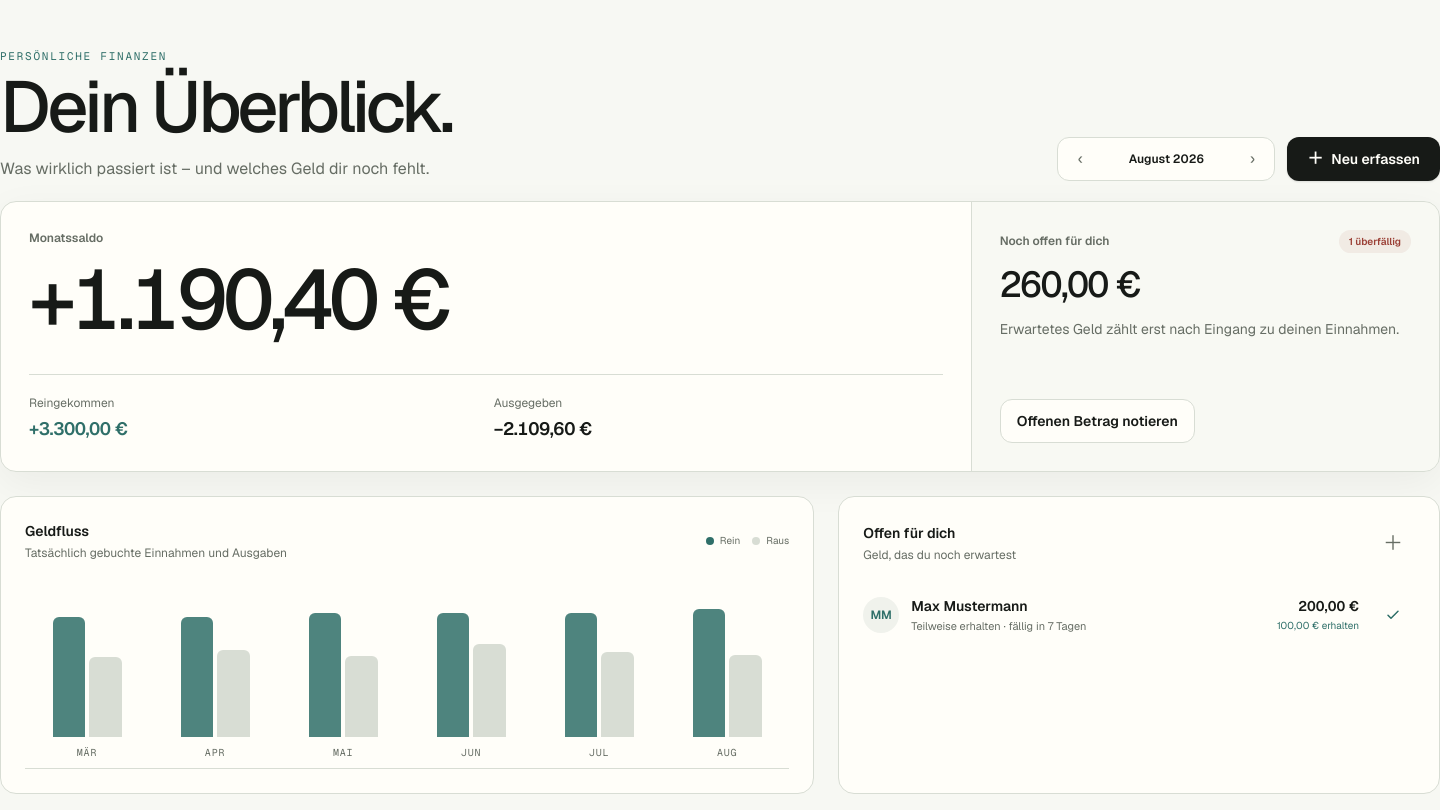
Test: PersonalDashboard › records a received payment through the focused review dialog
The image size is (1440, 810).
Click the button named "Zahlung von Max Mustermann eintragen". click: (1393, 615)
box: [1371, 593, 1415, 637]
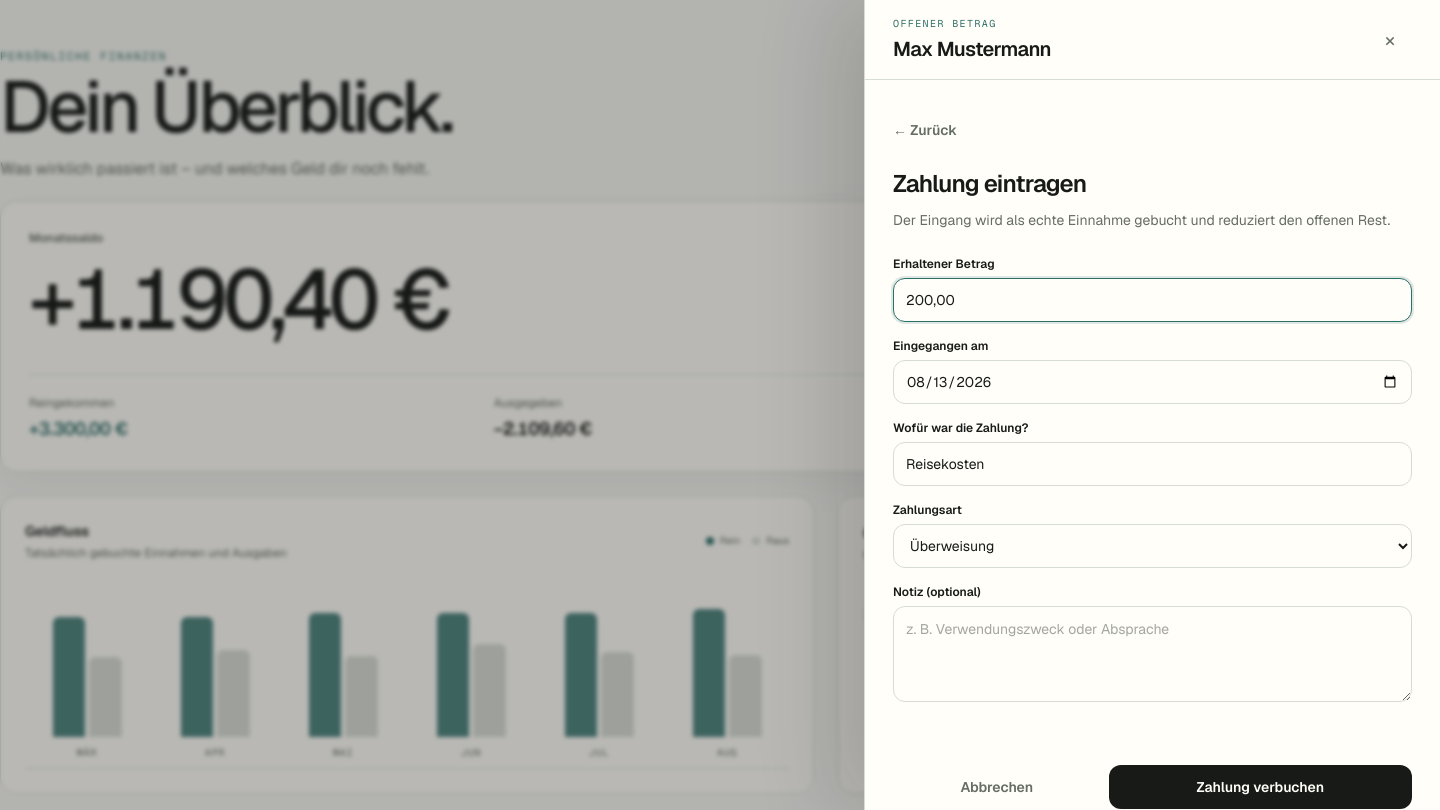
Expected: the field showing "200,00" is shown
Replace the text in the field labelled "Erhaltener Betrag" with "50,00". click: (1152, 300)
box: [893, 278, 1412, 322]
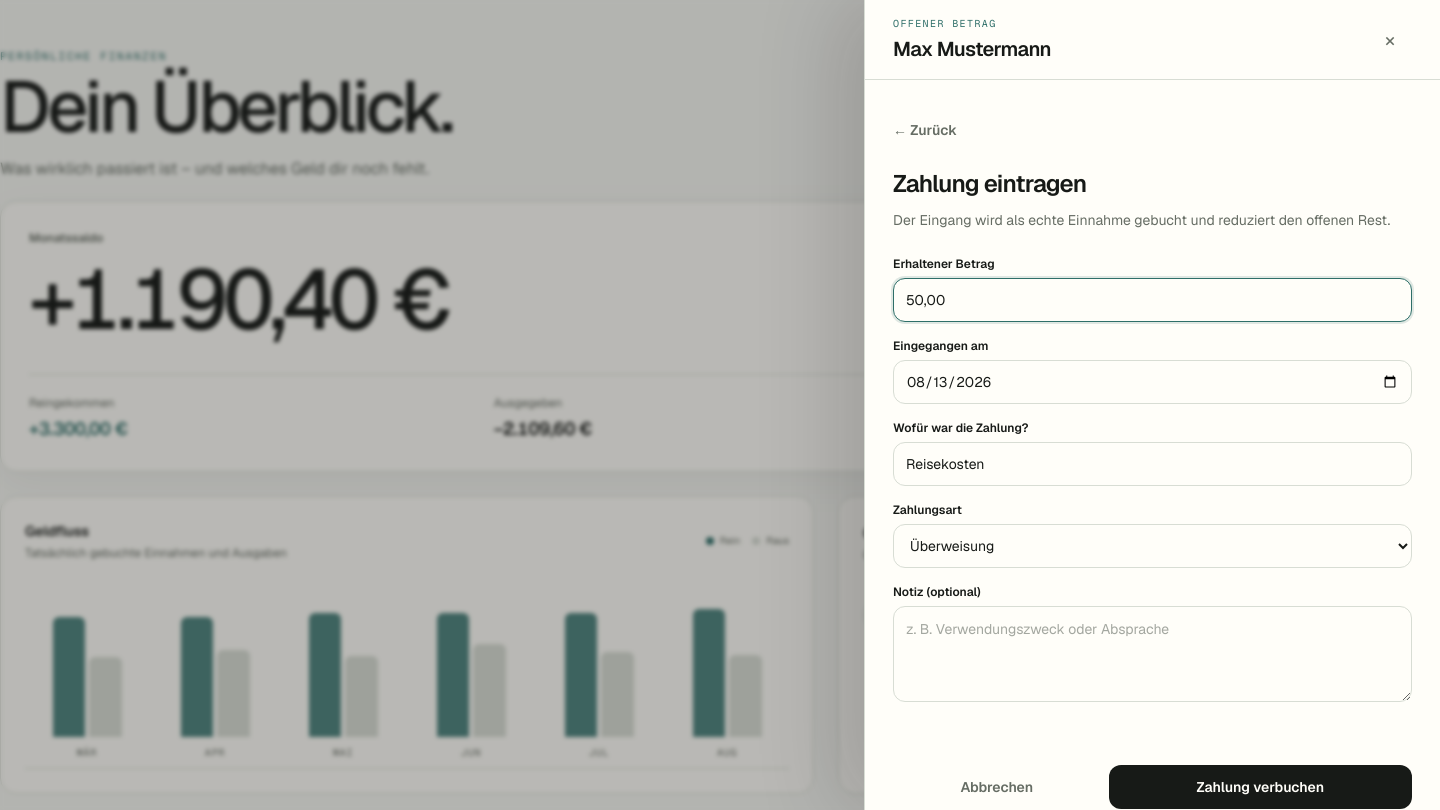
Click the button "Zahlung verbuchen". click: (1260, 787)
box: [1109, 765, 1412, 809]
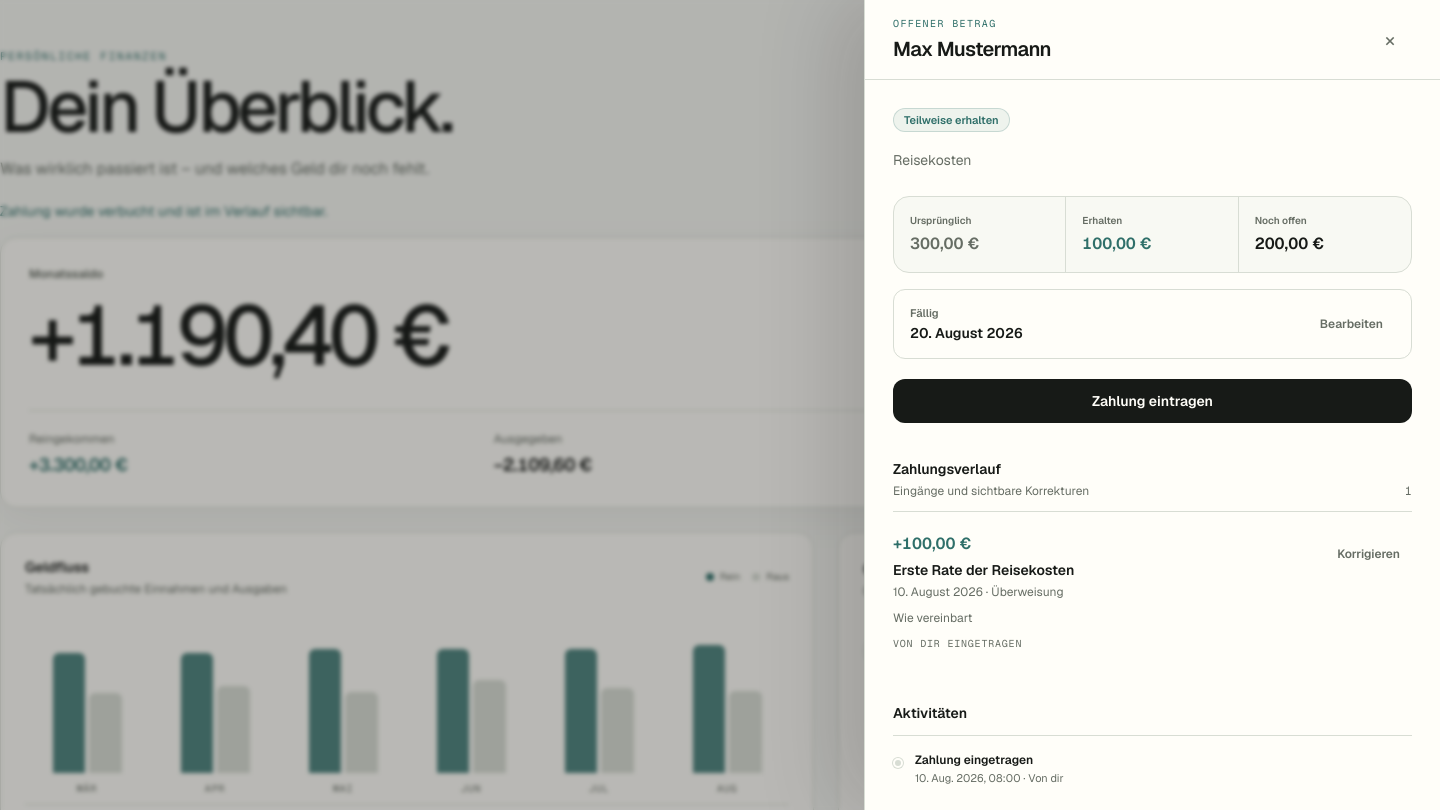
Expected: the text "Zahlung wurde verbucht und ist im Verlauf sichtbar." is shown, [0, 202, 328, 220]
